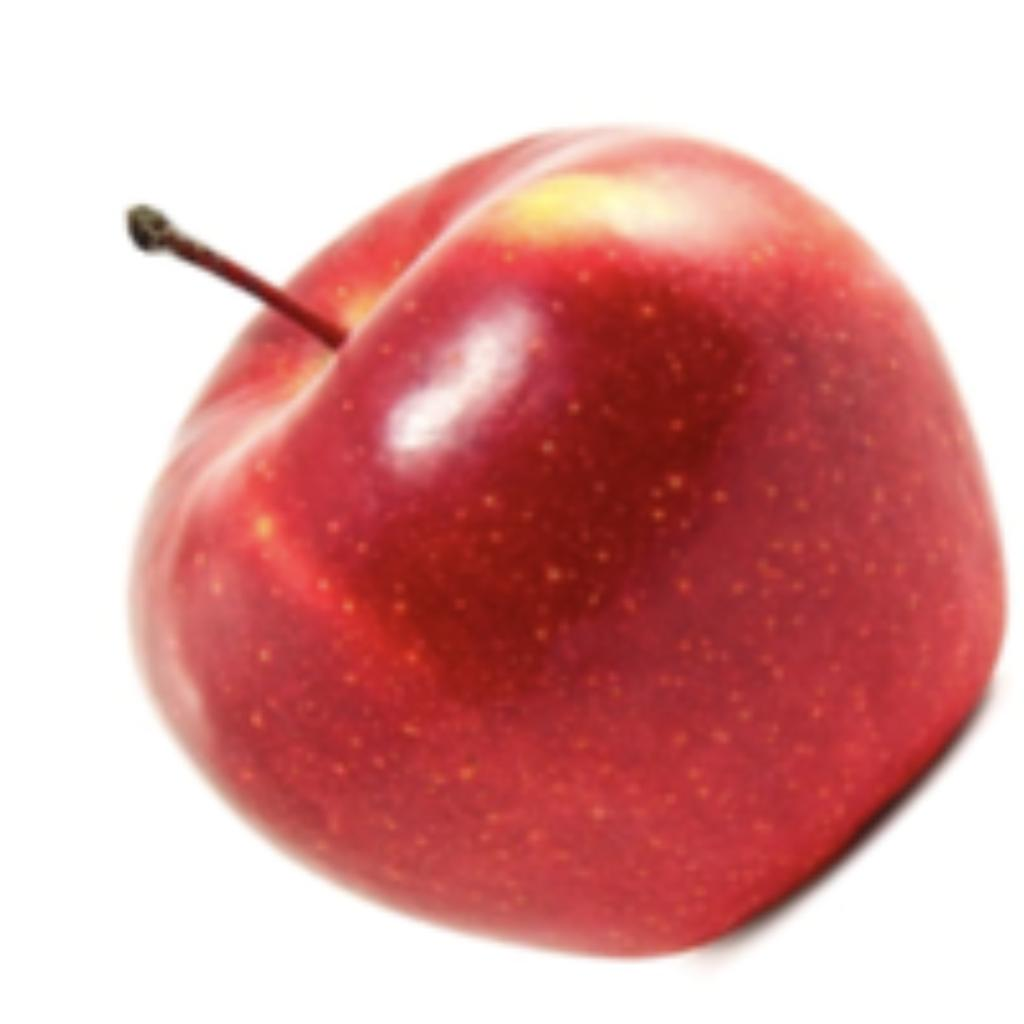apple: (118, 118, 1014, 973)
